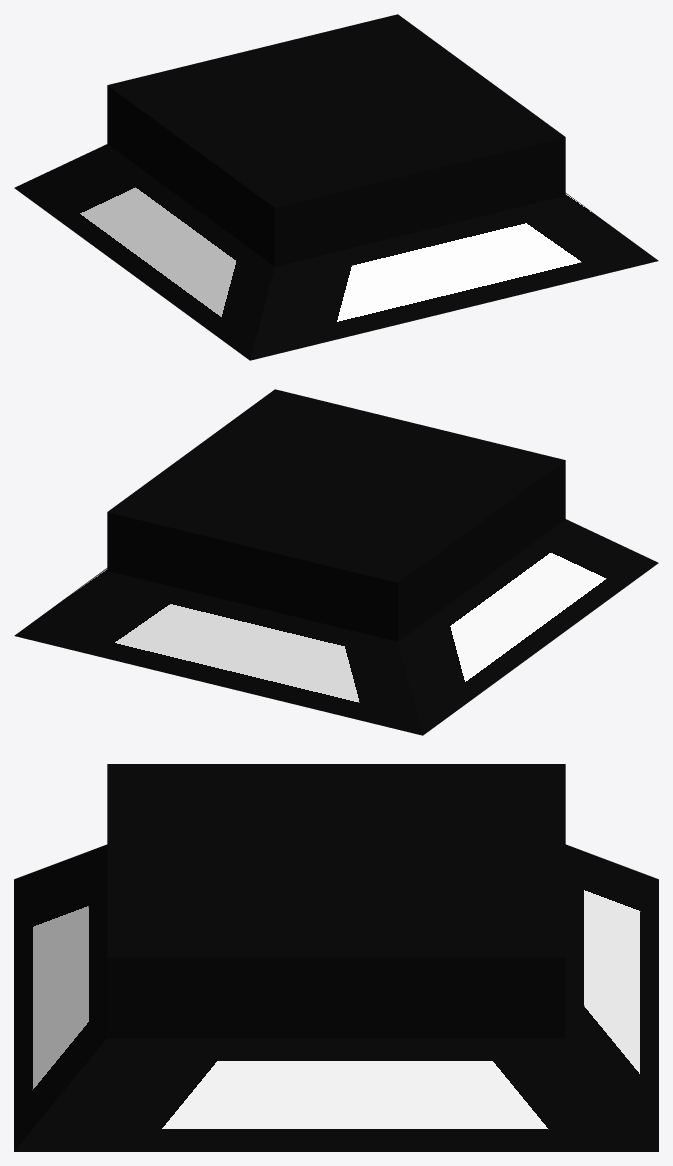
The model's file is Roof1.fbx.
3 renders of one model, top to bottom at view 1: azimuth 30°, elevation 25°; view 2: azimuth 150°, elevation 25°; view 3: azimuth 270°, elevation 25°, orthographic. The views are drawn at different scales.
Parts seen in each view (by area): view 1: Cube; view 2: Cube; view 3: Cube.
Part boxes in pixels (x1,y1,x2,y2): Cube: [14, 14, 658, 360]; Cube: [14, 389, 658, 735]; Cube: [14, 764, 658, 1151].
Size of the model in its own units: 200 by 52.95 by 200.
